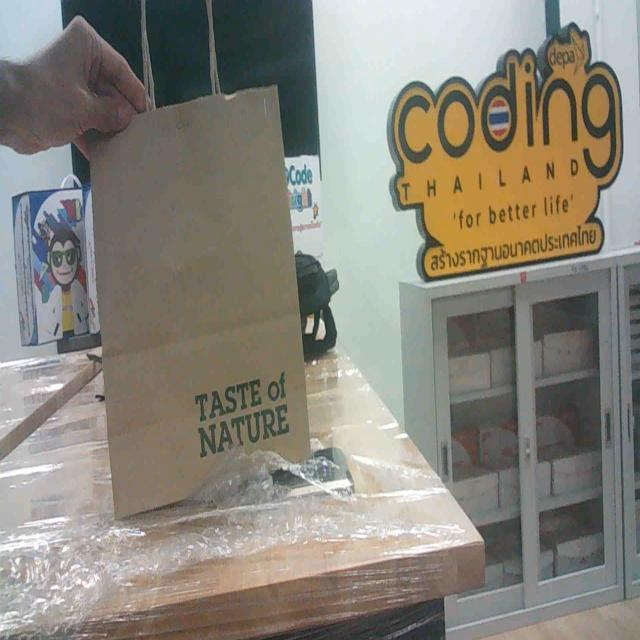bag: (86, 105, 318, 489)
